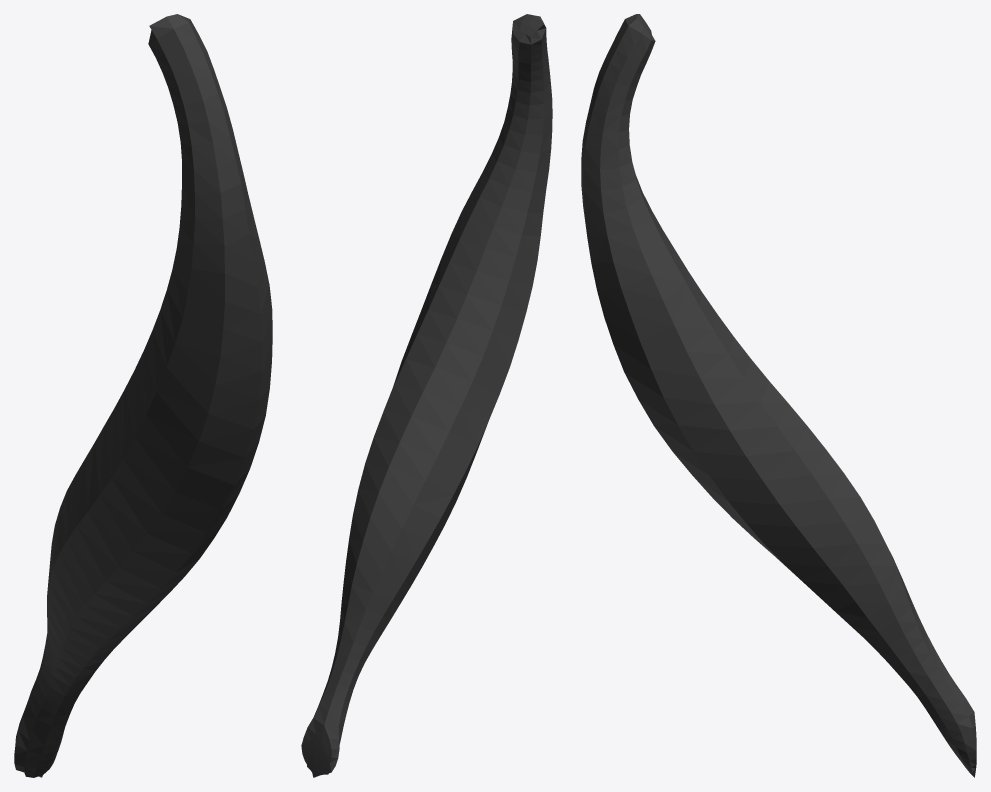
File: Biceps.glb
3 renders of one model, left to right at view 1: azimuth 30°, elevation 25°; view 2: azimuth 150°, elevation 25°; view 3: azimuth 270°, elevation 25°, orthographic. The views are drawn at different scales.
Parts seen in each view (by area): view 1: Biceps; view 2: Biceps; view 3: Biceps.
Part boxes in pixels (box(x1,y1,x2,y2)): Biceps: box(14, 14, 272, 777); Biceps: box(301, 14, 552, 777); Biceps: box(581, 14, 976, 777).
Bounding box in the file's own units: 11.13 × 67.64 × 33.3.
1 material, 1 textured.
